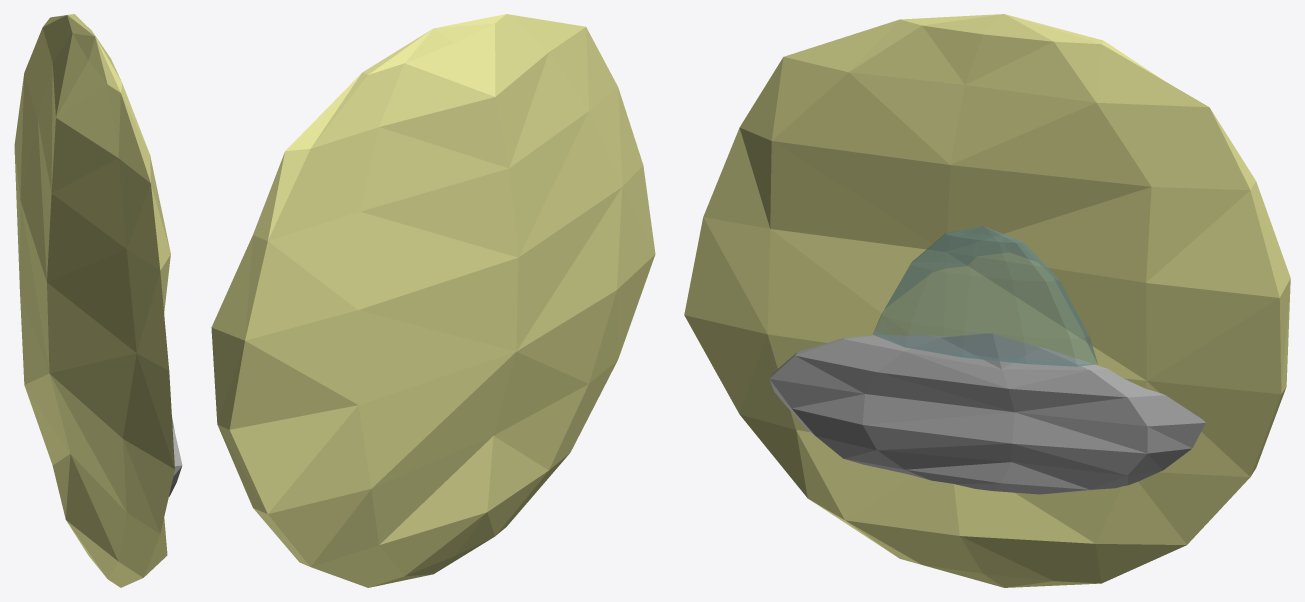
File: Muenze(1).fbx
The picture shows the model from 3 angles, left to right: view 1: azimuth 30°, elevation 25°; view 2: azimuth 150°, elevation 25°; view 3: azimuth 270°, elevation 25°; orthographic projection. The views are drawn at different scales.
Parts seen in each view (by area): view 1: pSphere7; view 2: pSphere7; view 3: pSphere7.
Boxes of the visible parts, bbox=[...] form: pSphere7: bbox=[14, 14, 182, 587]; pSphere7: bbox=[211, 14, 655, 587]; pSphere7: bbox=[684, 14, 1290, 587].
Size of the model in its own units: 0.6463 by 2 by 1.92.
